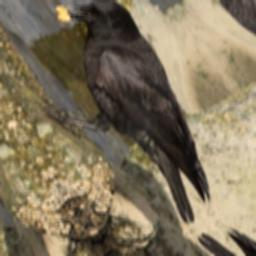Crow: (0, 0, 256, 249)
